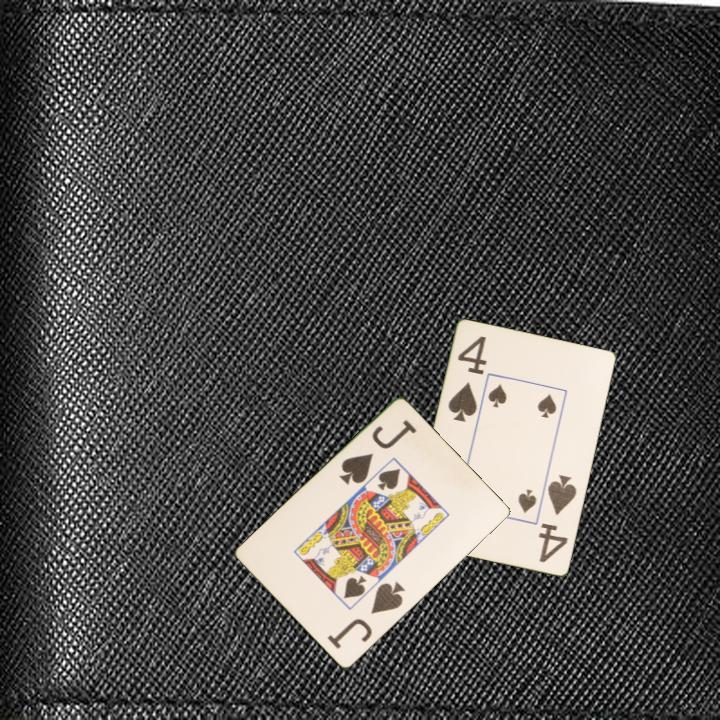4s: (535, 472, 580, 566), (445, 333, 490, 425)
Js: (323, 578, 408, 652), (335, 416, 420, 489)
